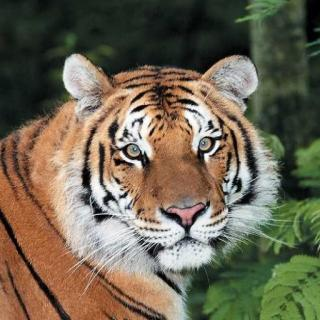Tiger: (0, 21, 296, 320)
